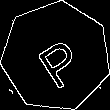P_NW: (27, 25, 86, 88)
